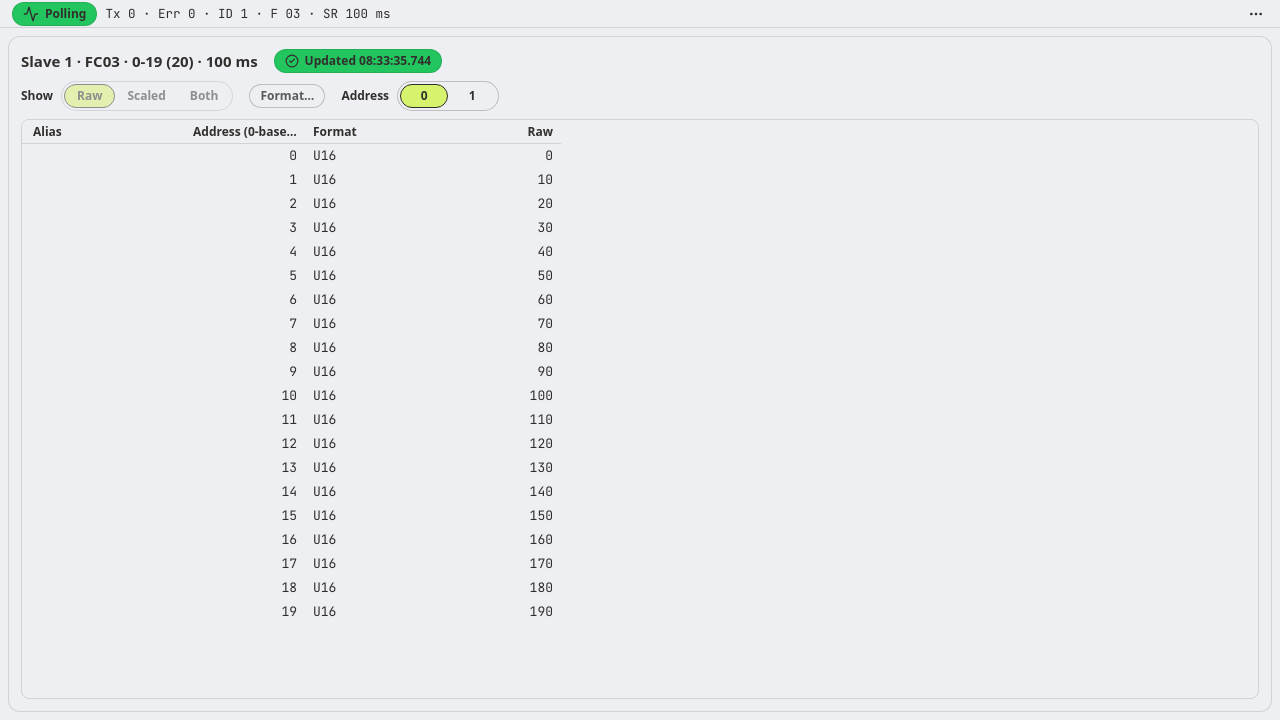
it: from the selected rows › an invalid scale is reported in the dialog and the focus goes there
The image size is (1280, 720).
Click the row "0 U16 0".
click(293, 156)  # box top-left (289, 147), bottom-right (553, 164)
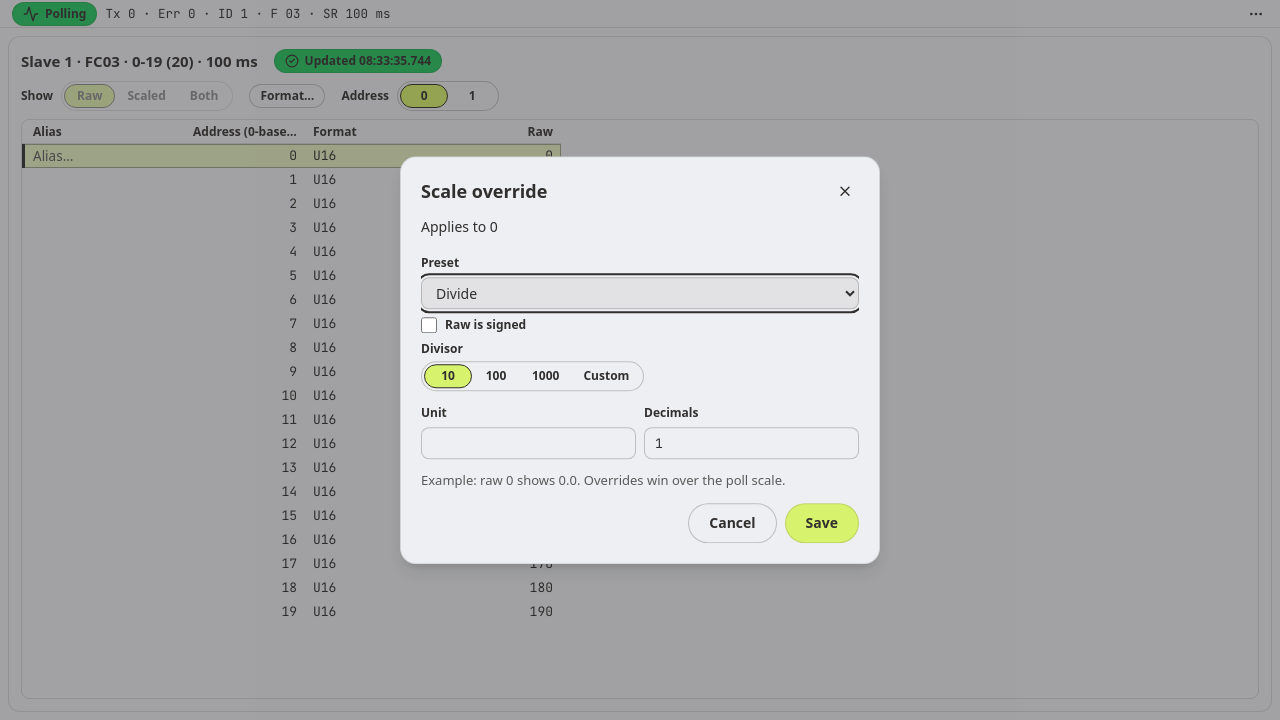
Click the radio button labelled "Custom".
click(606, 376)  # box top-left (572, 364), bottom-right (641, 388)
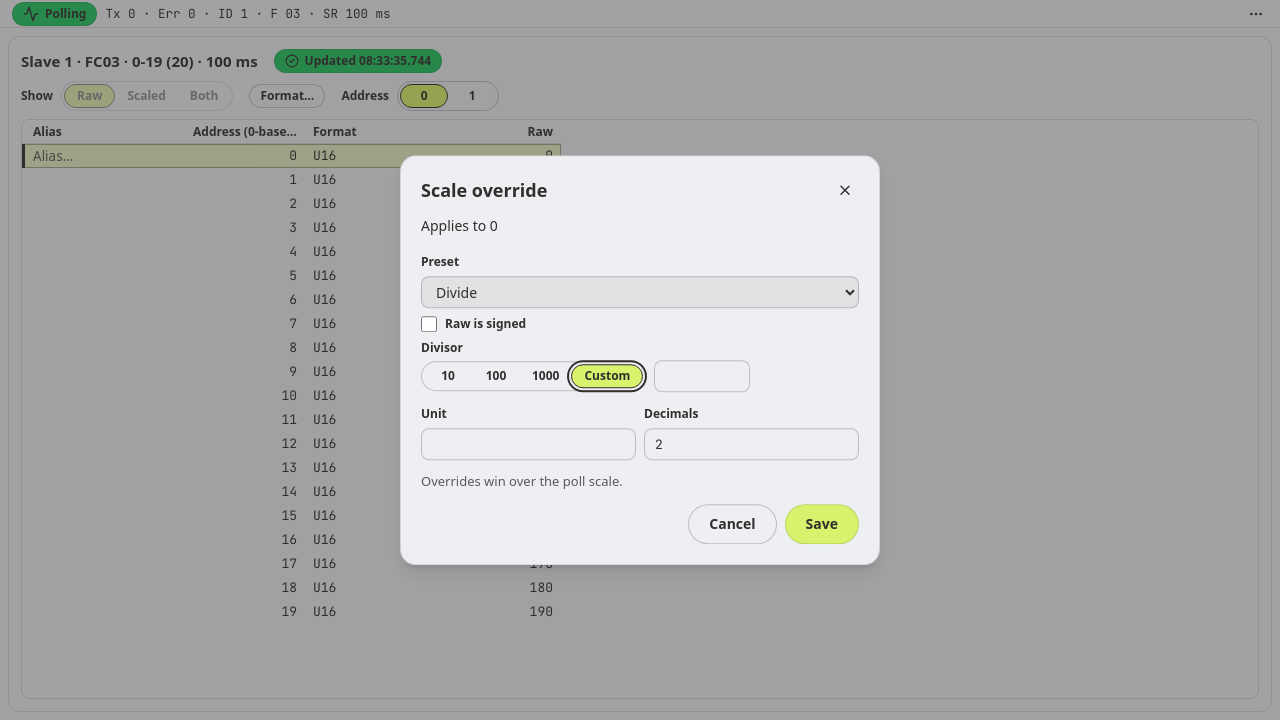
Type "0" into the field named "Custom divisor".
click(702, 376); type("0")  # box top-left (654, 360), bottom-right (750, 392)
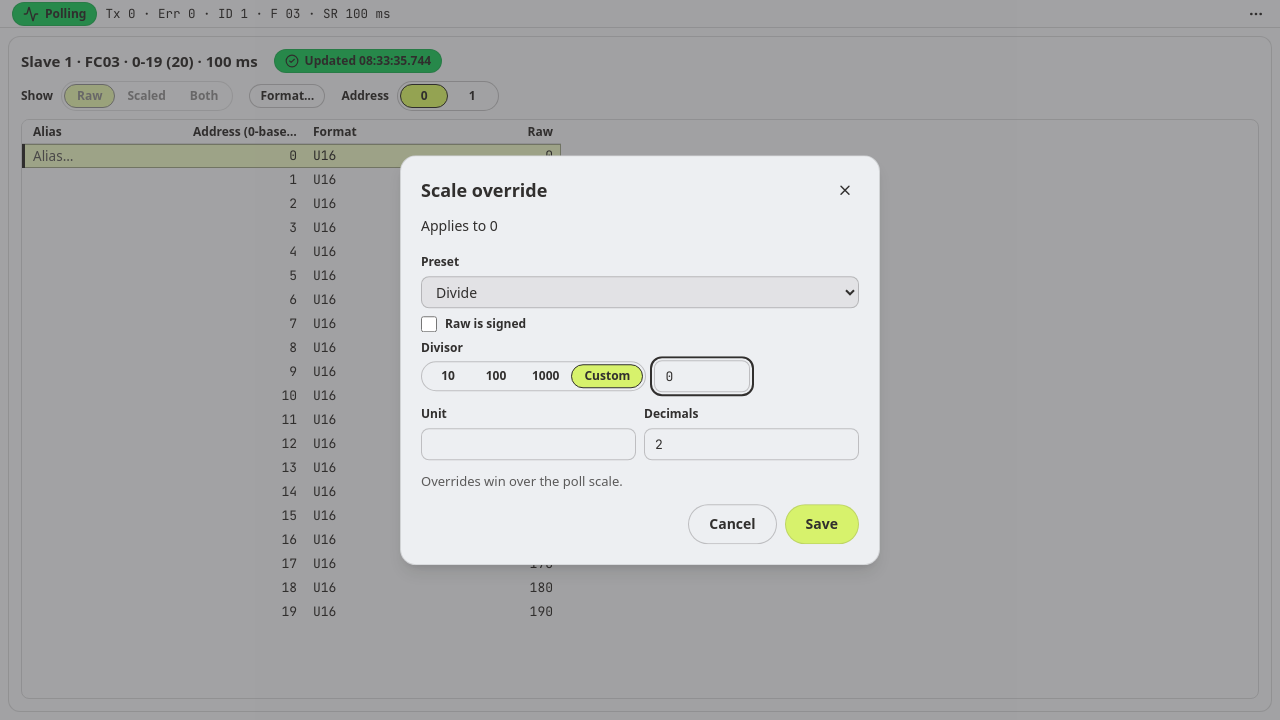
Click the button "Save".
click(822, 524)  # box top-left (785, 504), bottom-right (859, 544)
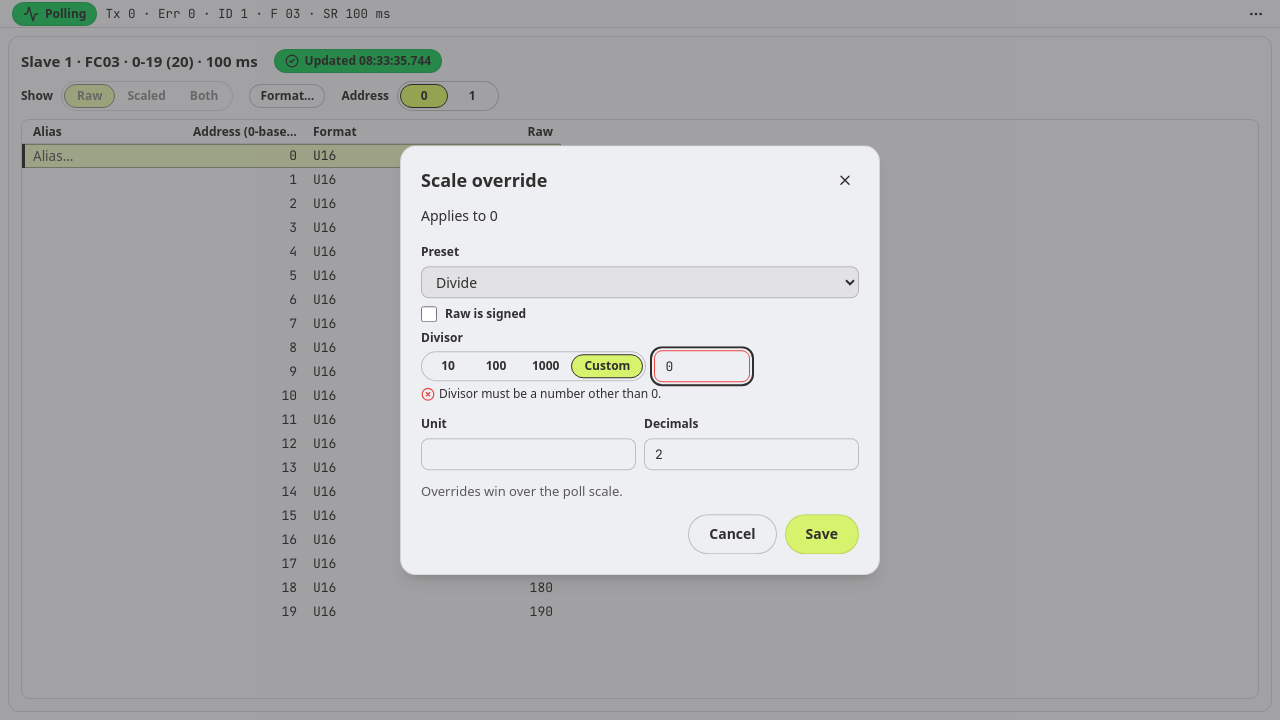
Expected: the text "Divisor must be a number other than 0." is shown, top-left (439, 386), bottom-right (661, 402)
